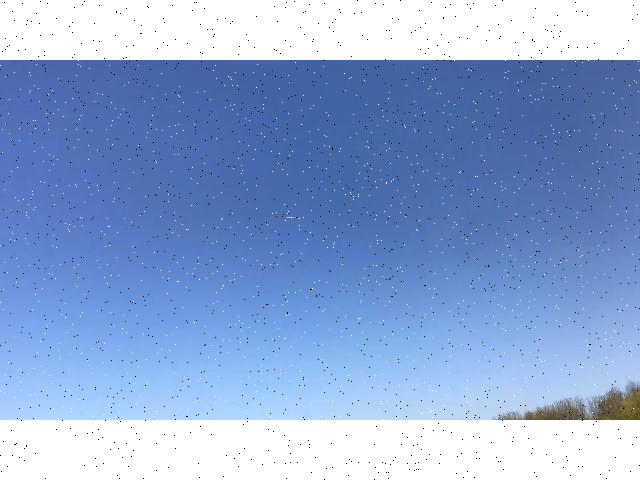Anti-Drone: (280, 211, 304, 221)
